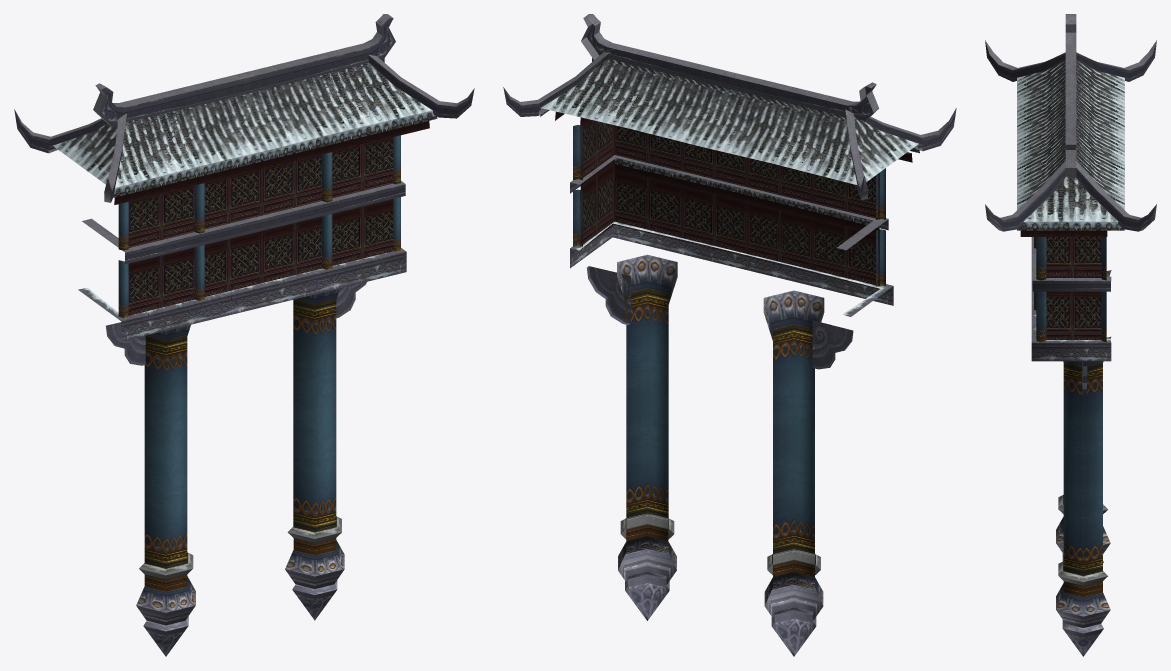
Rendered from yw_piaomiaofeng_fujian01.FBX.
3 views of the same model, side by side, from view 1: azimuth 30°, elevation 25°; view 2: azimuth 150°, elevation 25°; view 3: azimuth 270°, elevation 25° (orthographic). The views are drawn at different scales.
Parts seen in each view (by area): view 1: yw_piaomiaofeng_fujian01; view 2: yw_piaomiaofeng_fujian01; view 3: yw_piaomiaofeng_fujian01.
Part boxes in pixels (box(x1,y1,x2,y2)): yw_piaomiaofeng_fujian01: box(14, 14, 474, 656); yw_piaomiaofeng_fujian01: box(503, 14, 956, 656); yw_piaomiaofeng_fujian01: box(985, 14, 1156, 656).
Size of the model in its own units: 800 by 1234 by 354.
